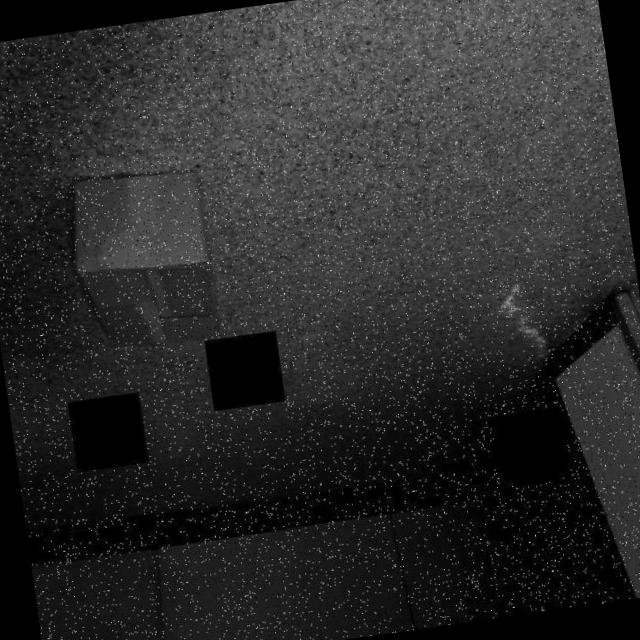box: (51, 146, 234, 366)
